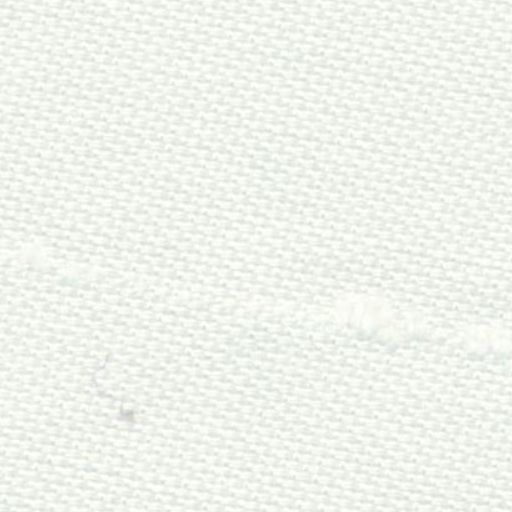DaiSha: (120, 247, 505, 364)
